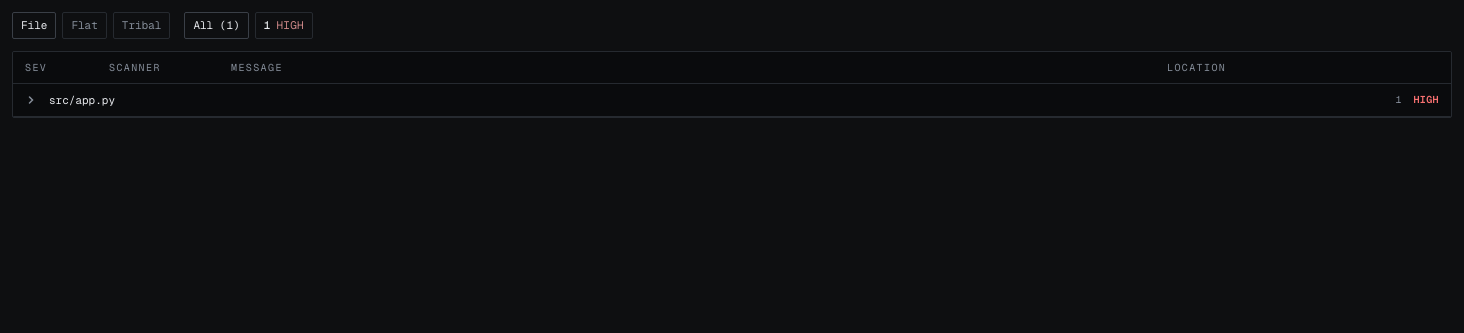
it: FindingsTable source context › retains the scanner-specific missing-line message for code findings
The image size is (1464, 333).
Click the button "src/app.py 1 HIGH" at (82, 100), box [13,84,1451,117]
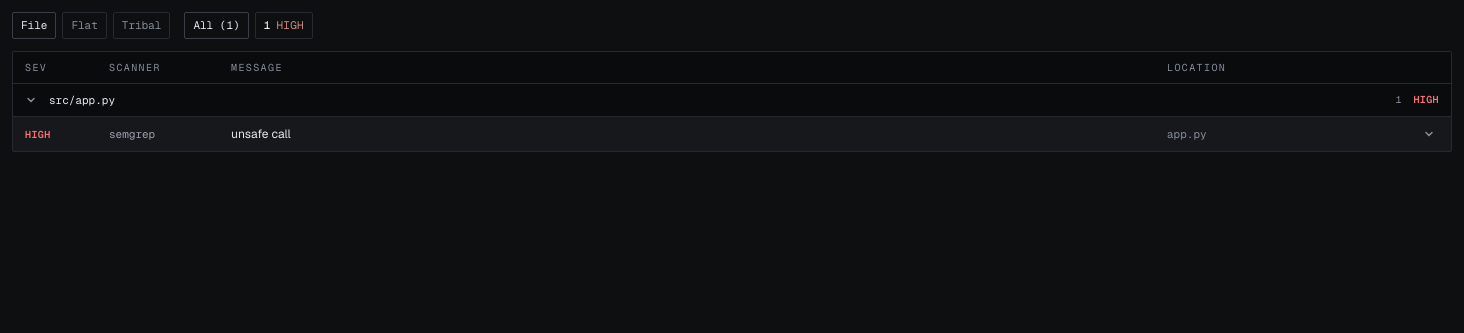
Click the button "HIGH semgrep unsafe call app.py" at (132, 134), box [13,117,1451,151]
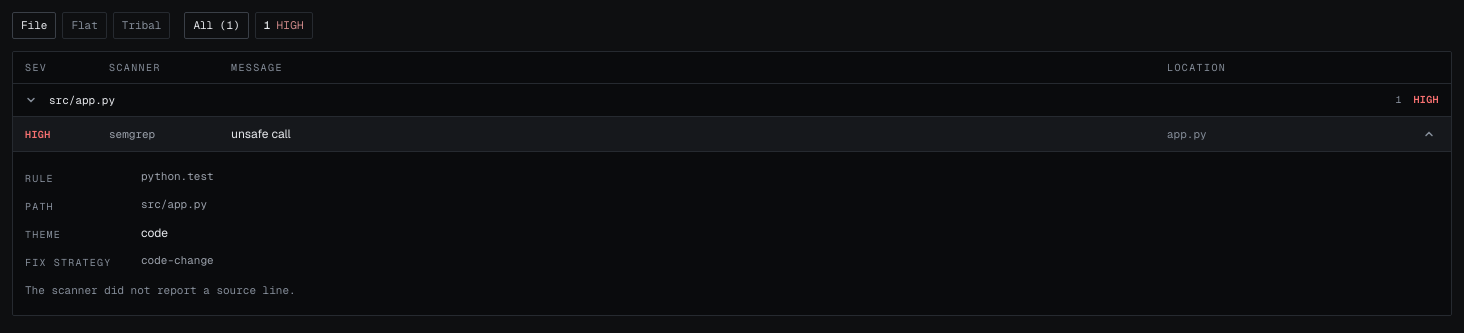
Expected: the text "The scanner did not report a source line." is shown, [25,283,296,297]
